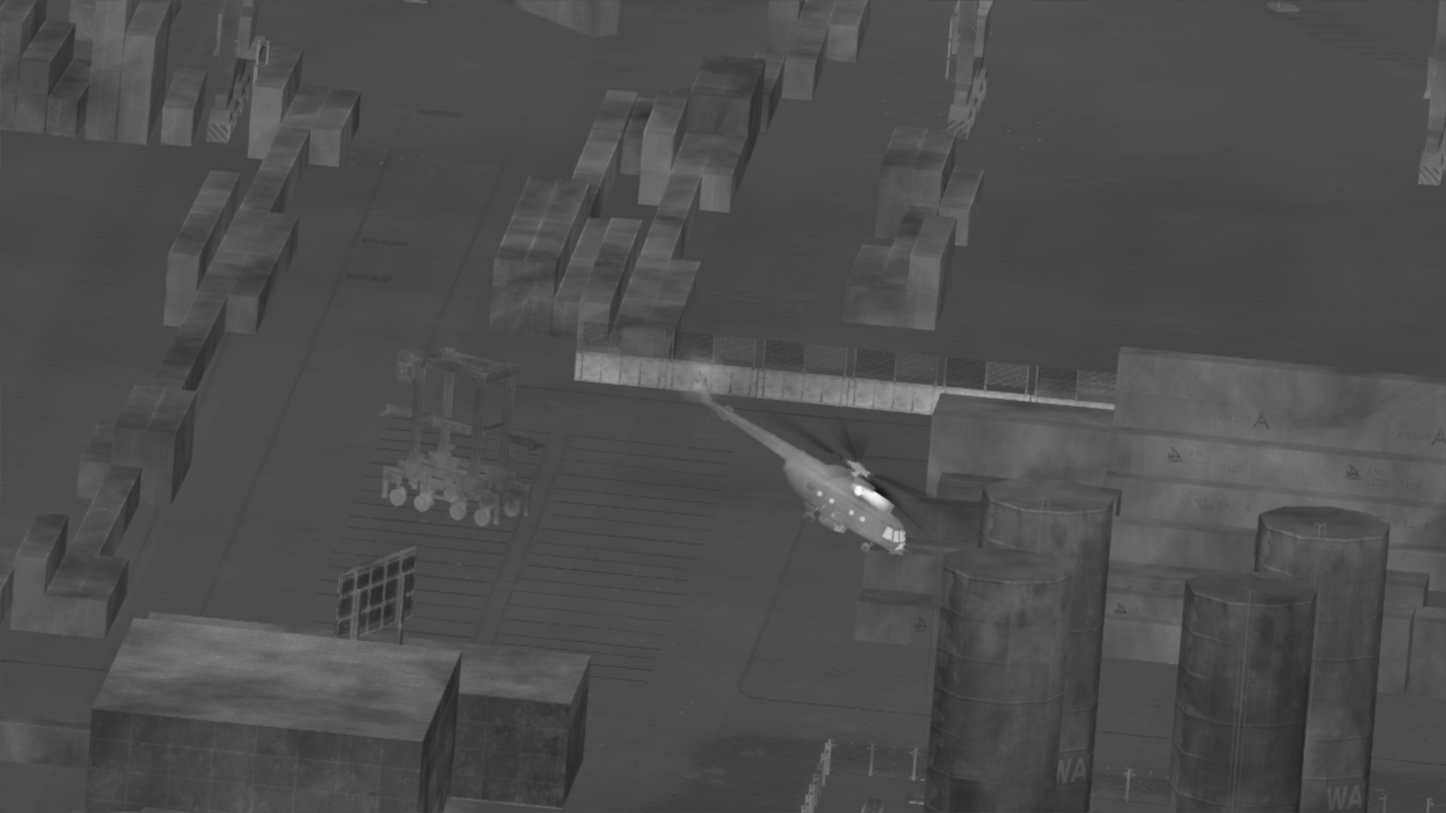mi8: (683, 365, 912, 559)
